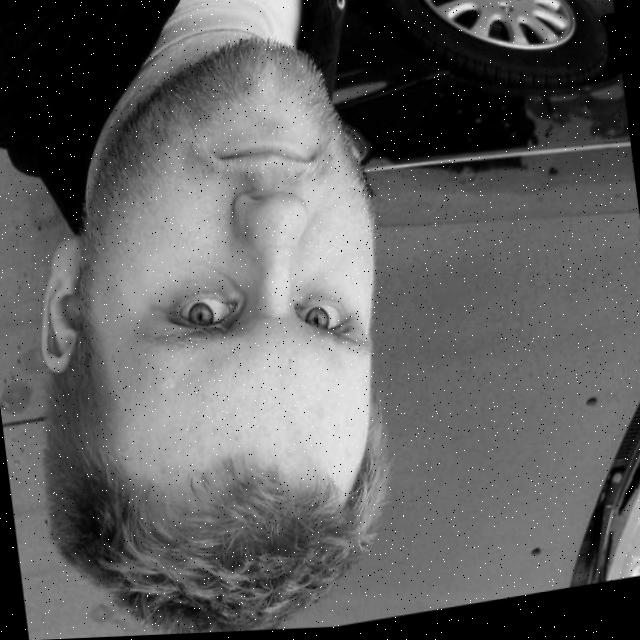puffy_eyes: (170, 268, 239, 305), (296, 277, 354, 318)
